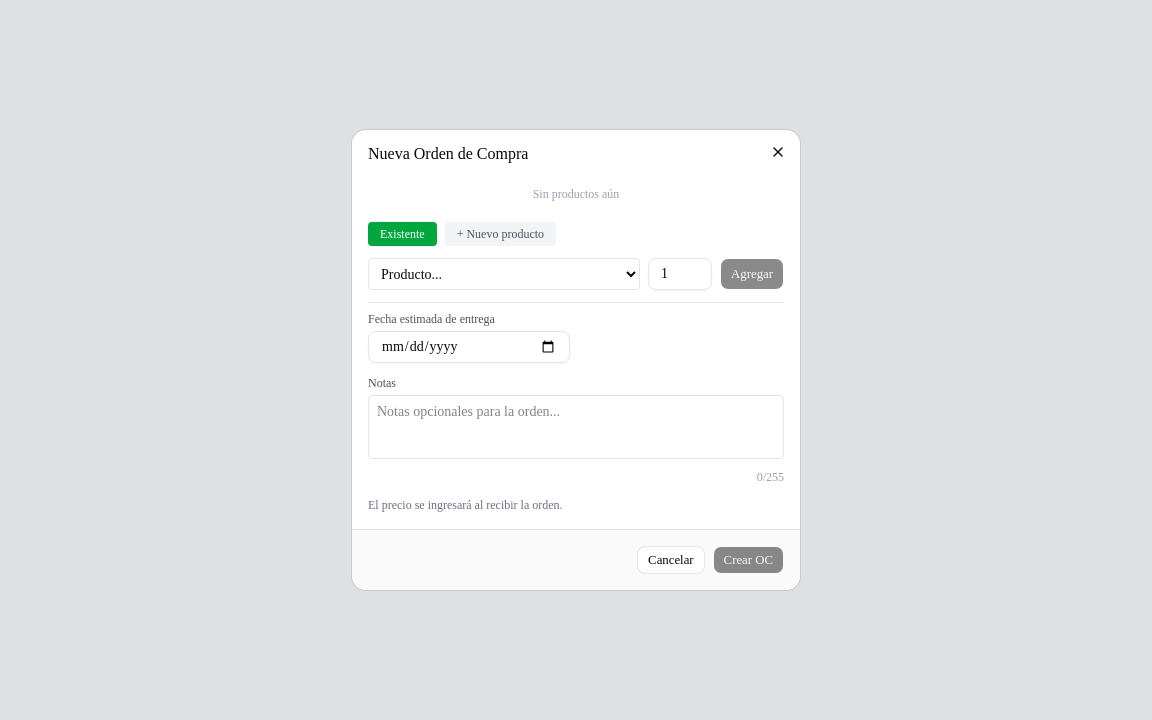
Test: CreateOrderDialog › COD-02: agregar item existente › agrega un producto existente a la lista de items
The width and height of the screenshot is (1152, 720).
Select "Alimento Premium" in the dropdown at (504, 274), box [368, 258, 640, 290]
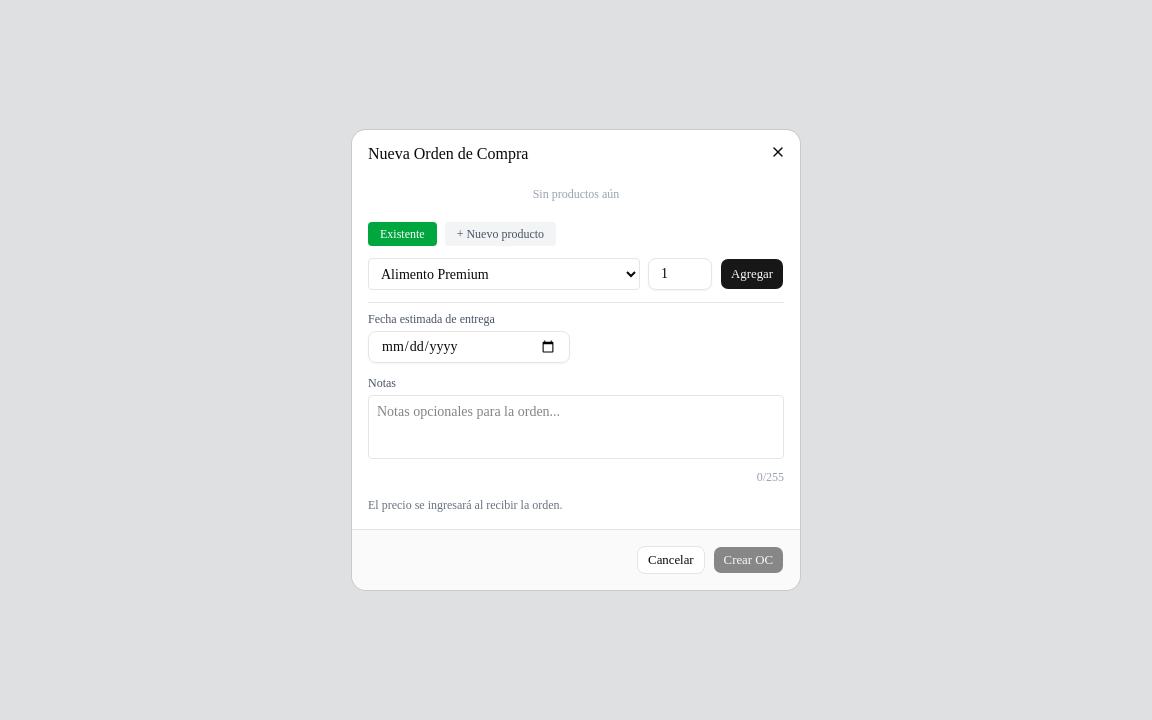
Click the button "Agregar".
click(752, 274)  # box [720, 258, 784, 290]
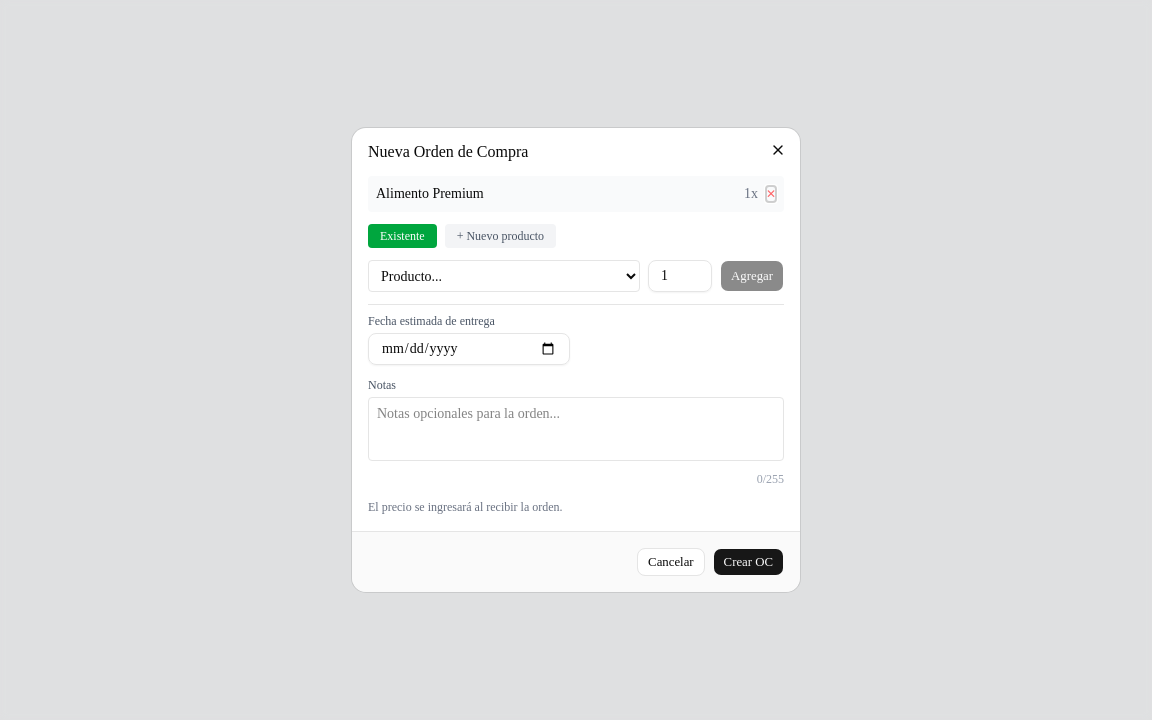
Now the text "Alimento Premium" is shown, box [376, 184, 484, 204]
Now the text "1x" is shown, box [744, 184, 758, 204]
